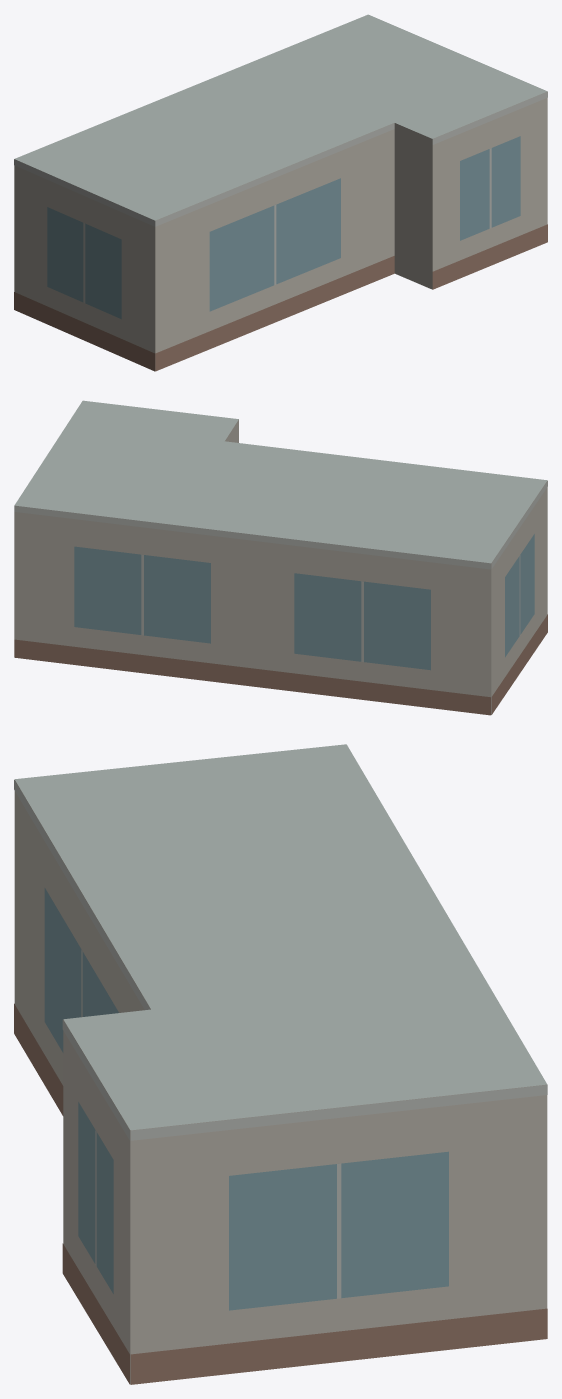
File: survey-upis-32922611.glb
The picture shows the model from 3 angles, top to bottom: view 1: azimuth 30°, elevation 25°; view 2: azimuth 150°, elevation 25°; view 3: azimuth 270°, elevation 25°; orthographic projection. The views are drawn at different scales.
Parts seen in each view (by area): view 1: survey-upis-32922611.tmp; view 2: survey-upis-32922611.tmp; view 3: survey-upis-32922611.tmp.
Boxes of the visible parts, x1,y1,x2,y2 form: survey-upis-32922611.tmp: (14, 14, 547, 371); survey-upis-32922611.tmp: (14, 400, 547, 715); survey-upis-32922611.tmp: (14, 744, 547, 1384).
Size of the model in its own units: 9.95 by 3.05 by 5.81.
